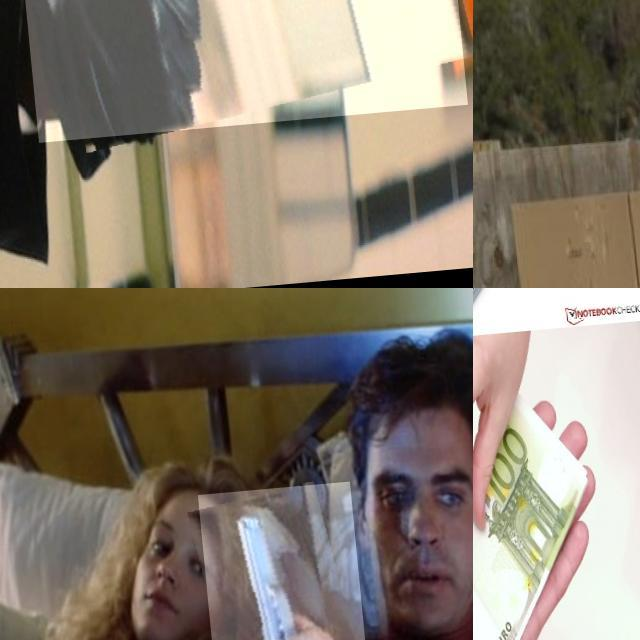gun-knife-thesis - v11 Yolov5 augmented: (0, 0, 458, 222), (192, 488, 368, 640)
